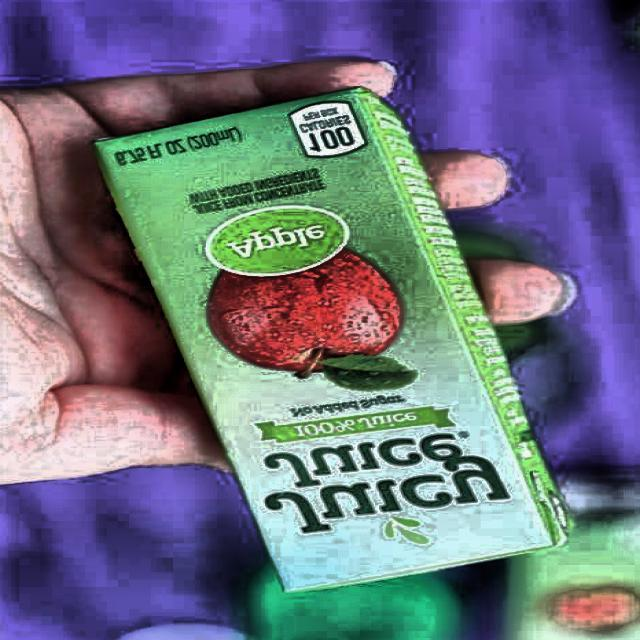cardboard: (90, 85, 570, 596)
